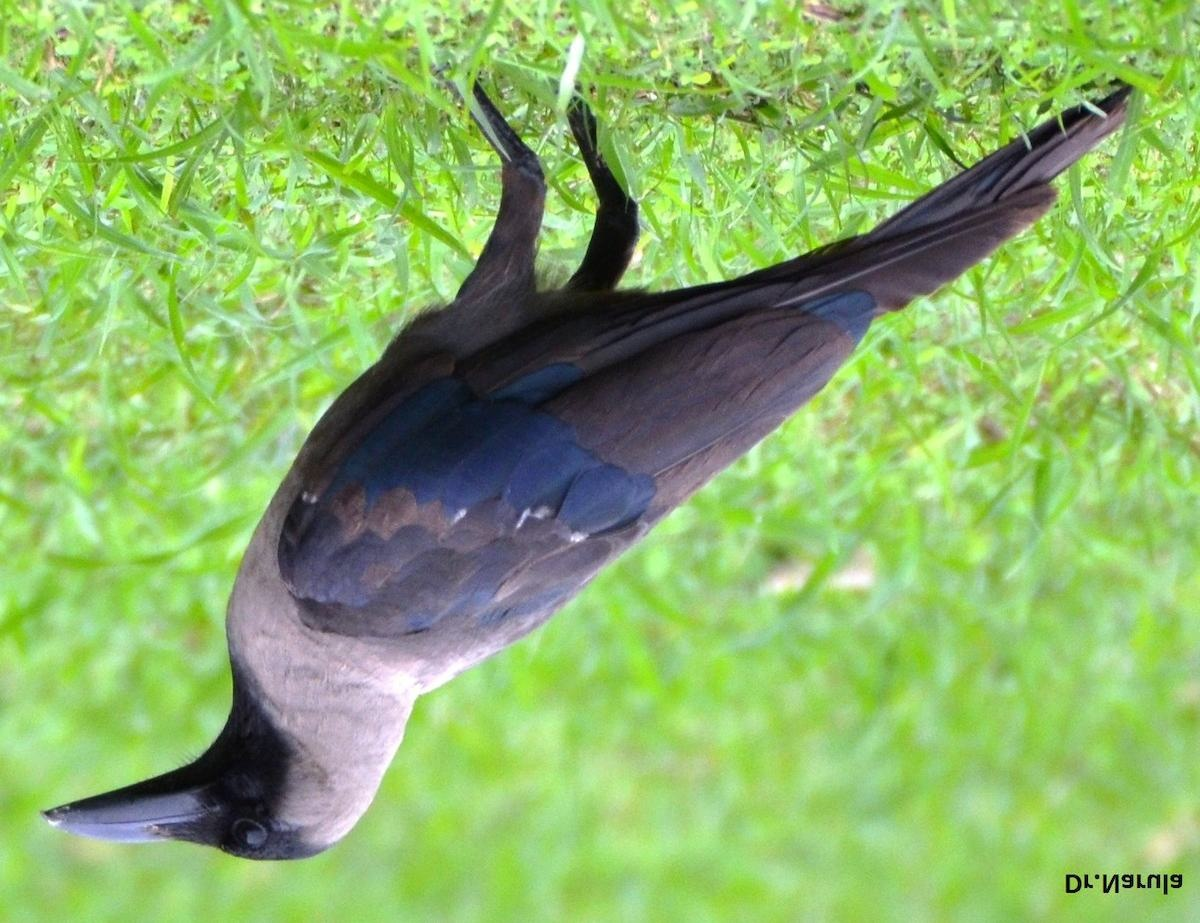crow: (36, 67, 1200, 866)
